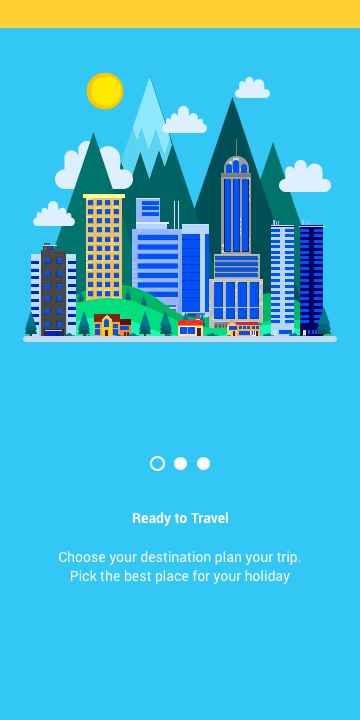Image: (23, 72, 337, 343)
PageIndicator: (149, 455, 213, 473)
Text: (58, 550, 302, 585), (132, 511, 230, 528)
